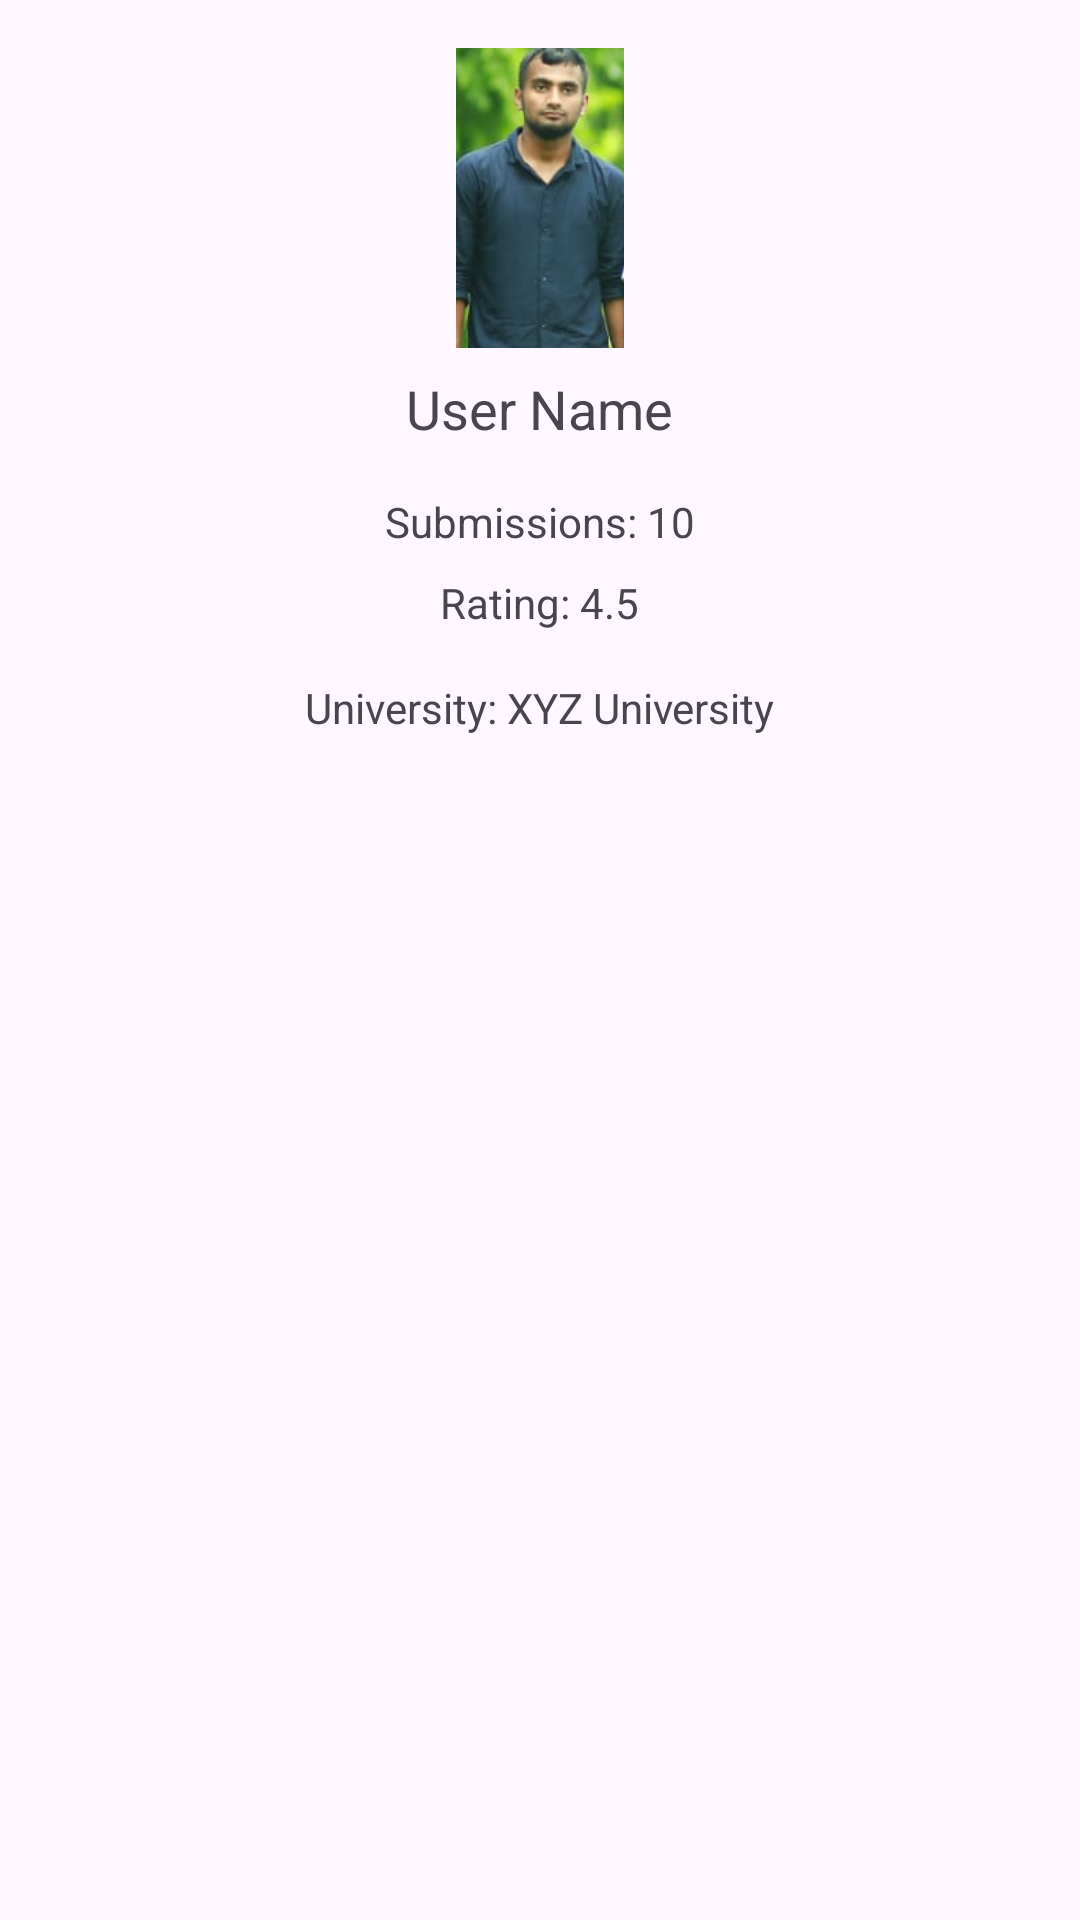

Locate icon controls on the screen. Image size 1080 x 1920, boxes as (x1, y1, x2, y2).
profile: (456, 48, 624, 348)
